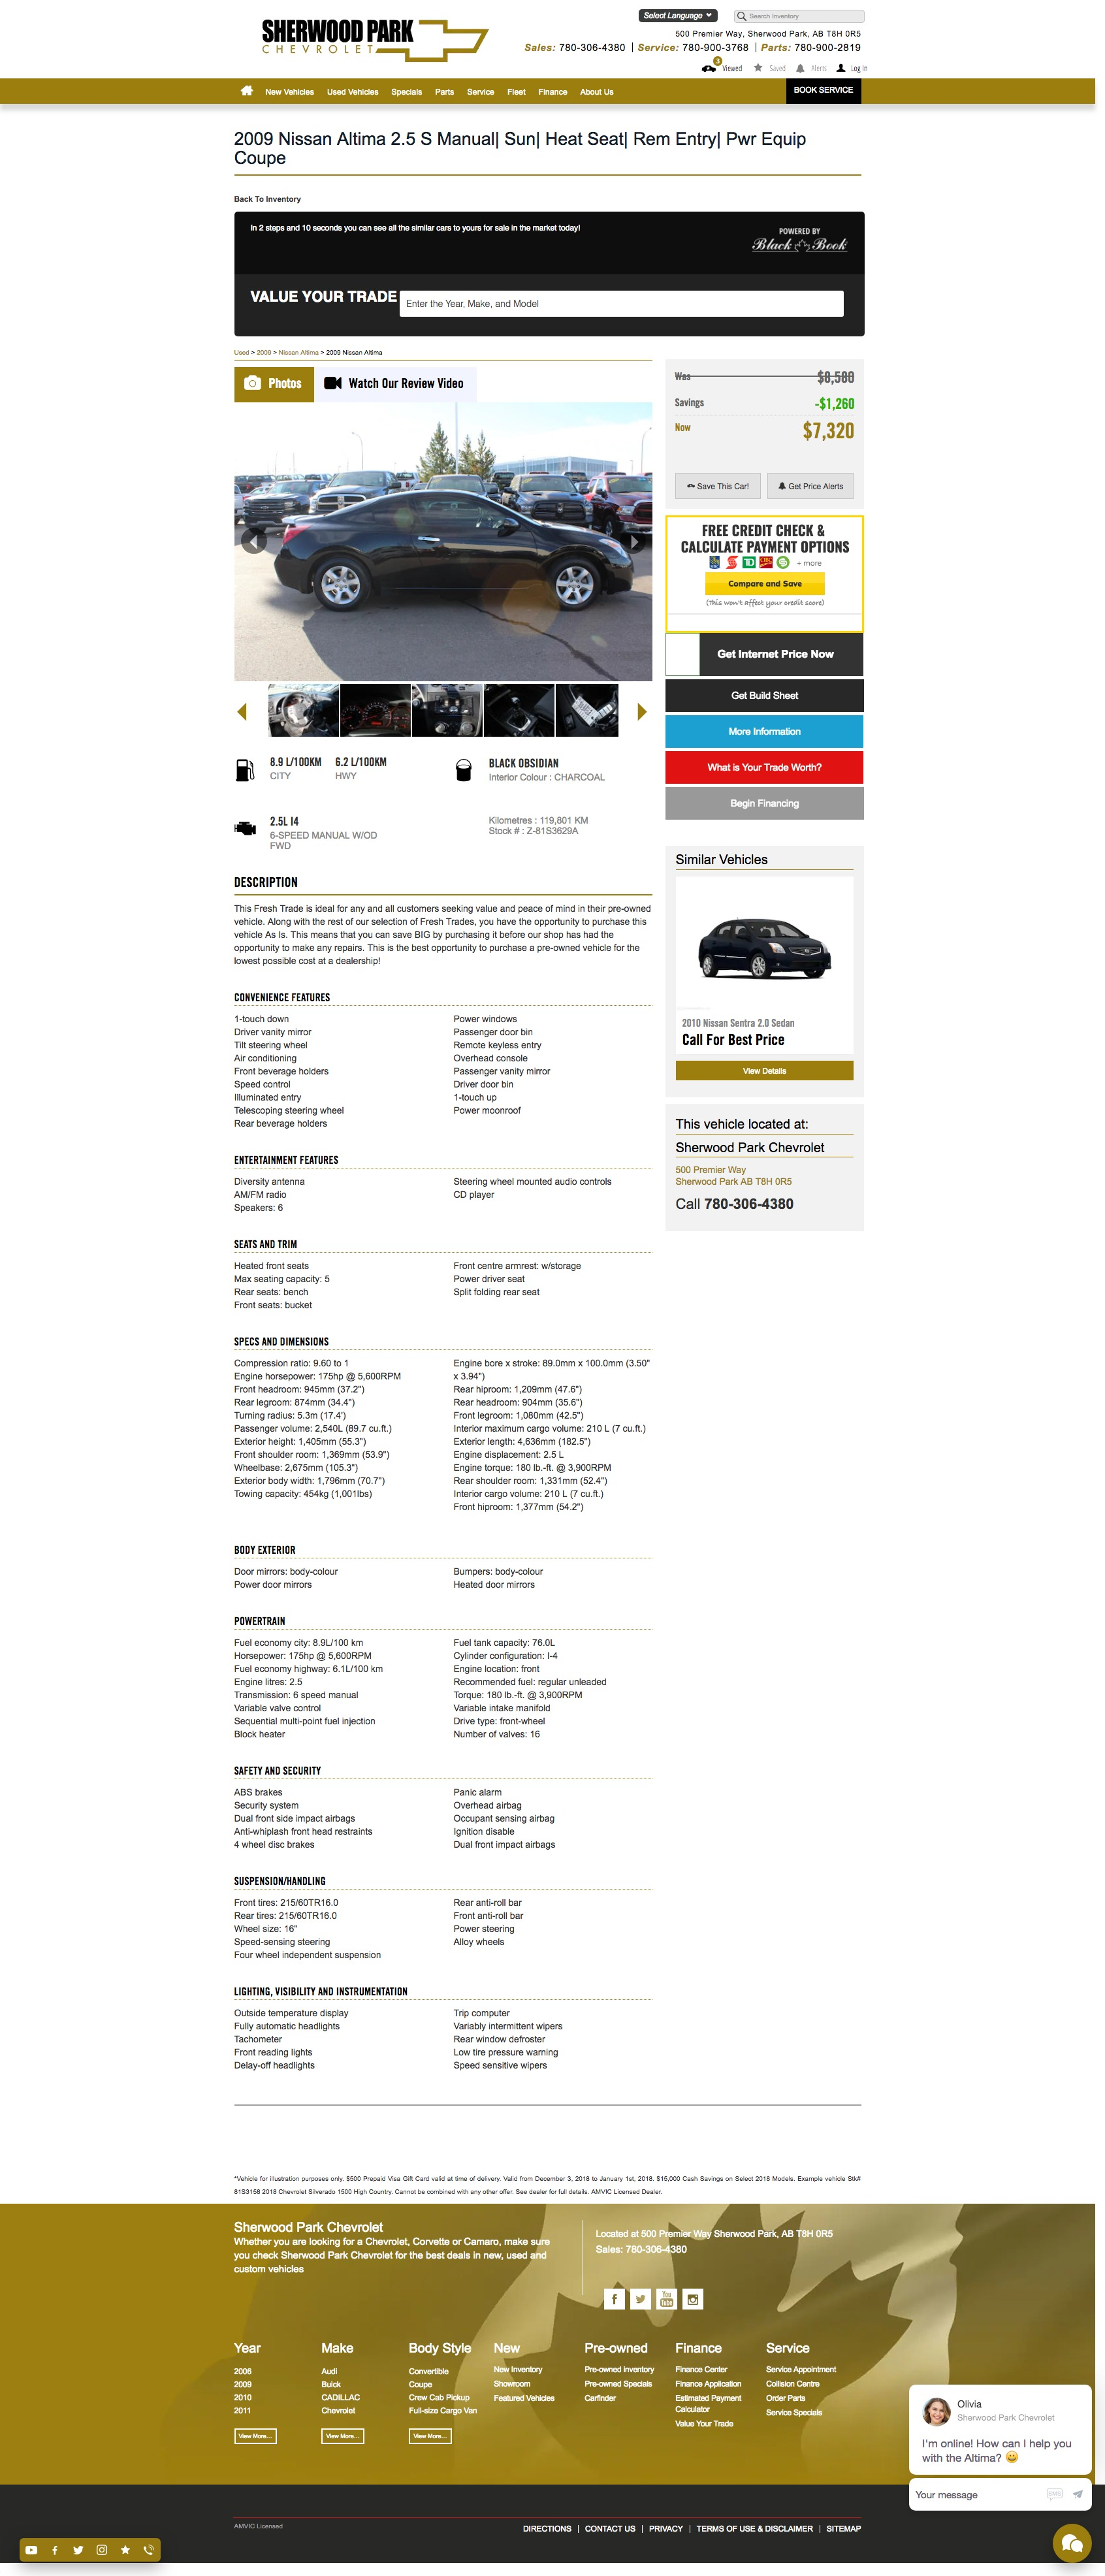car: (637, 701, 649, 721)
